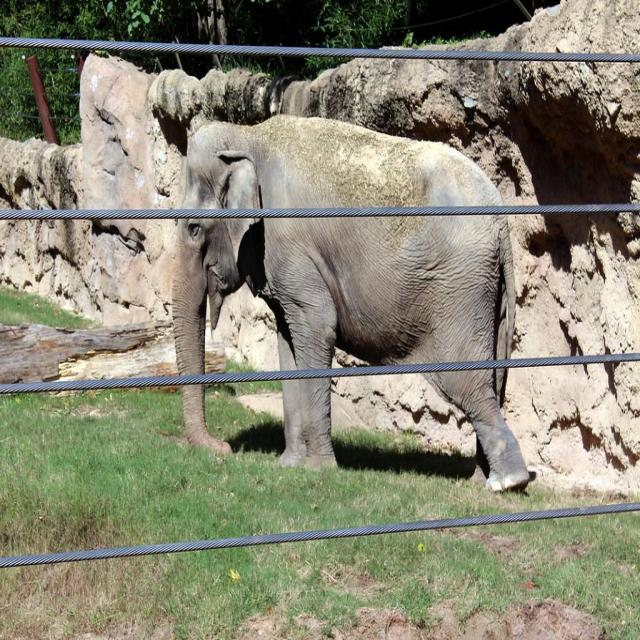Elephant: (170, 118, 526, 493)
